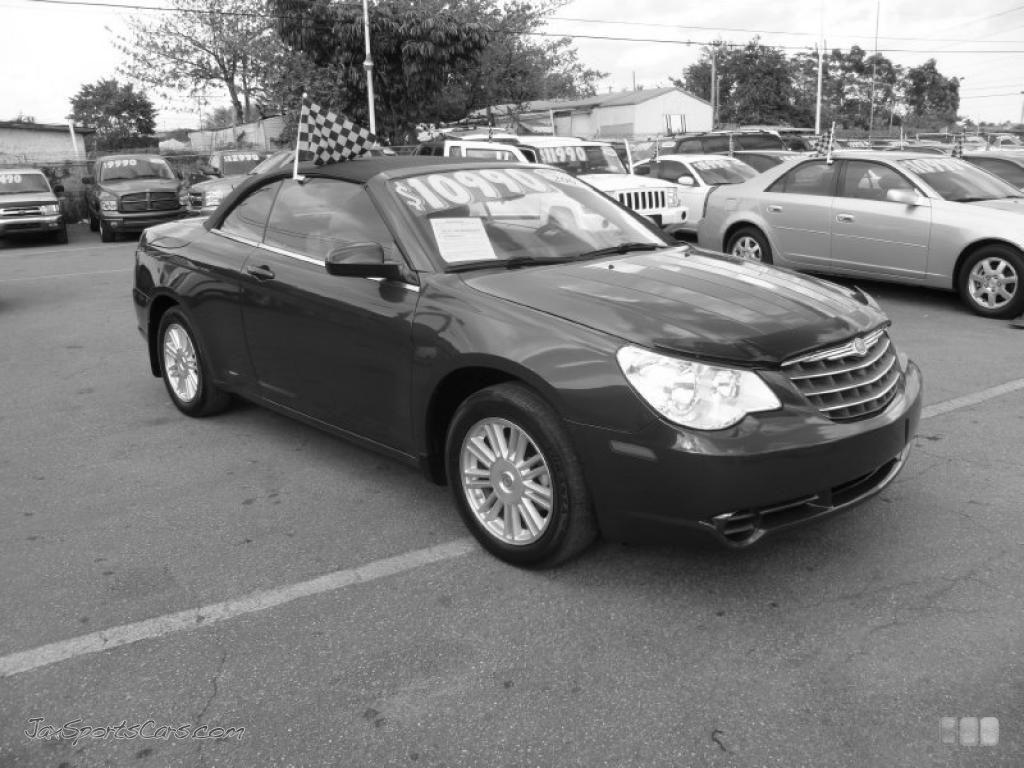car: (128, 89, 928, 575)
